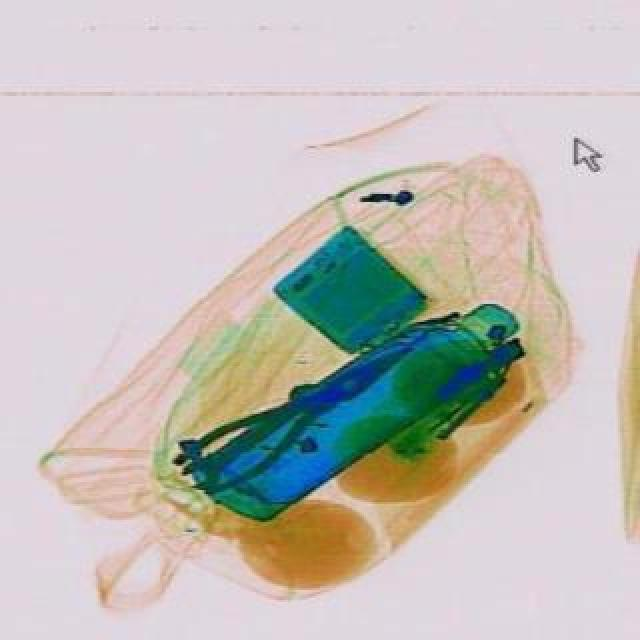scissors: (174, 374, 328, 494)
wrench: (168, 320, 426, 500)
